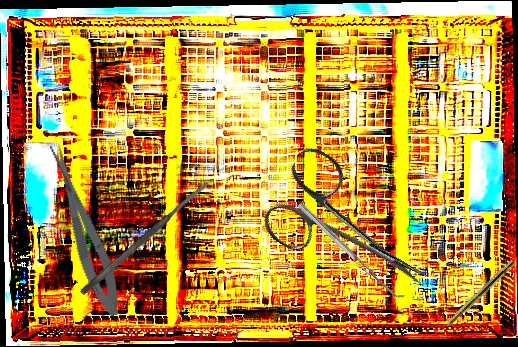Handpiece: (432, 258, 516, 340)
Iris Scissors: (253, 142, 453, 320)
Micro Scissor: (42, 138, 129, 321)
Spatula Surgical: (78, 178, 213, 297), (297, 198, 406, 303)
